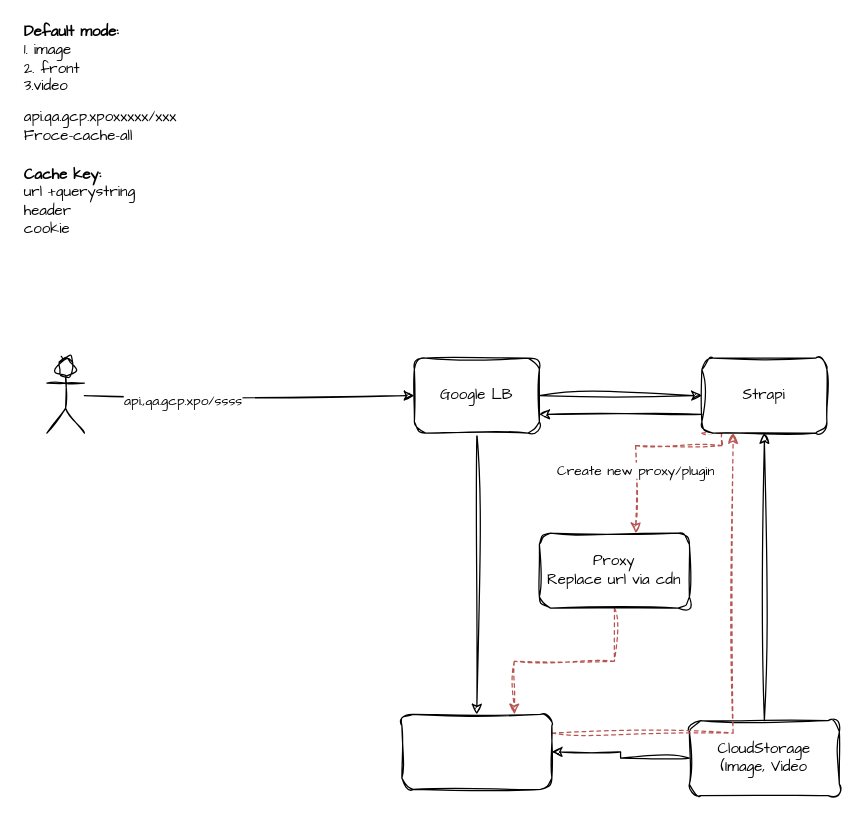
The diagram is 861 pixels wide and 818 high, and some of its shapes have lost their labels. The centre of each missing label's shape, as x and y in pixels:
"Actor" belongs at [65,395].
"Cloud CDN" belongs at [476,751].
